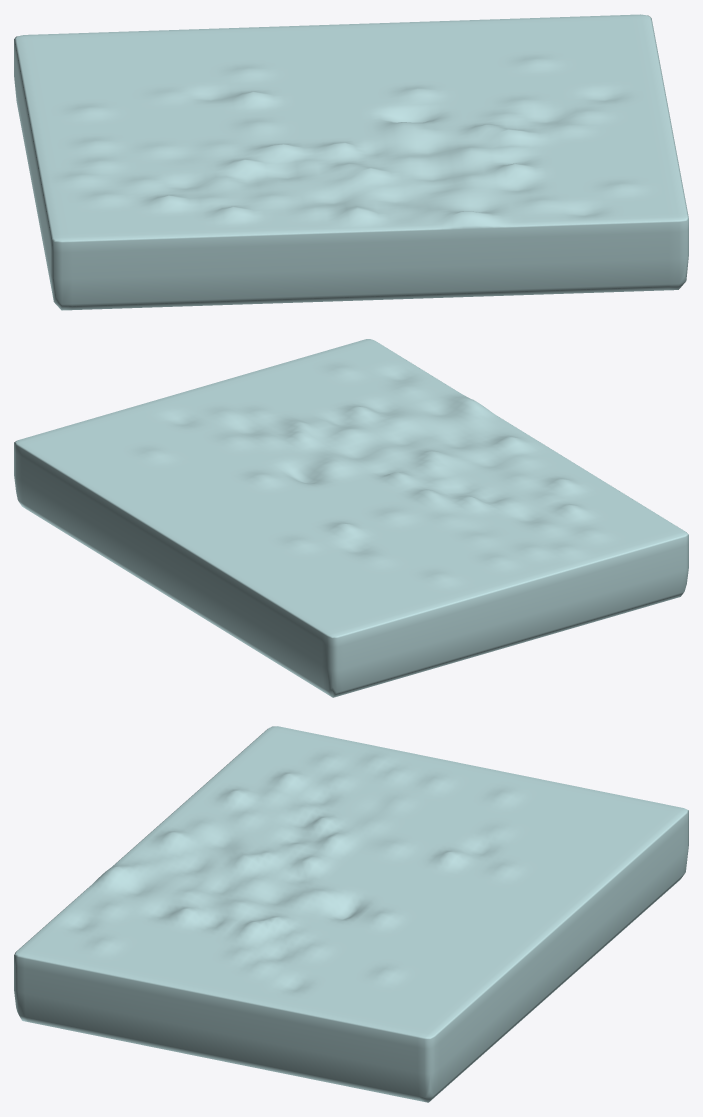
Rendered from GroundSmoothLIghthouse.fbx.
The picture shows the model from 3 angles, top to bottom: view 1: azimuth 30°, elevation 25°; view 2: azimuth 150°, elevation 25°; view 3: azimuth 270°, elevation 25°; orthographic projection. The views are drawn at different scales.
Parts seen in each view (by area): view 1: polySurface112; view 2: polySurface112; view 3: polySurface112.
Boxes of the visible parts, x1,y1,x2,y2 form: polySurface112: [14, 14, 688, 310]; polySurface112: [14, 339, 688, 697]; polySurface112: [14, 726, 688, 1102].
Bounding box in the file's own units: 68.43 × 7.87 × 62.38.
